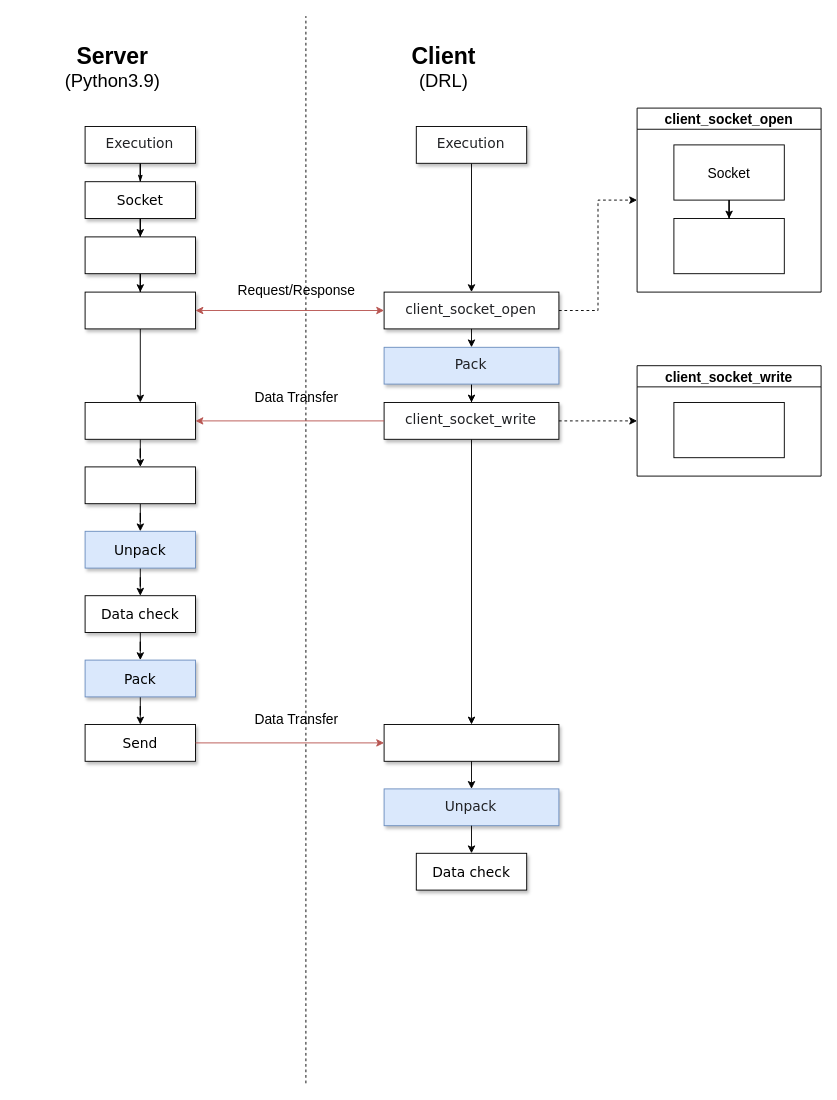
The diagram is 837 pixels wide and 1100 high, and some of its shapes have lost their labels. The centre of each missing label's shape, as x and y in pixels:
Accept: pixel 140 422
Bind: pixel 140 256
client_socket_read: pixel 472 744
Connect: pixel 728 246
Listen: pixel 140 311
Recv: pixel 140 486
Sendall: pixel 728 430
